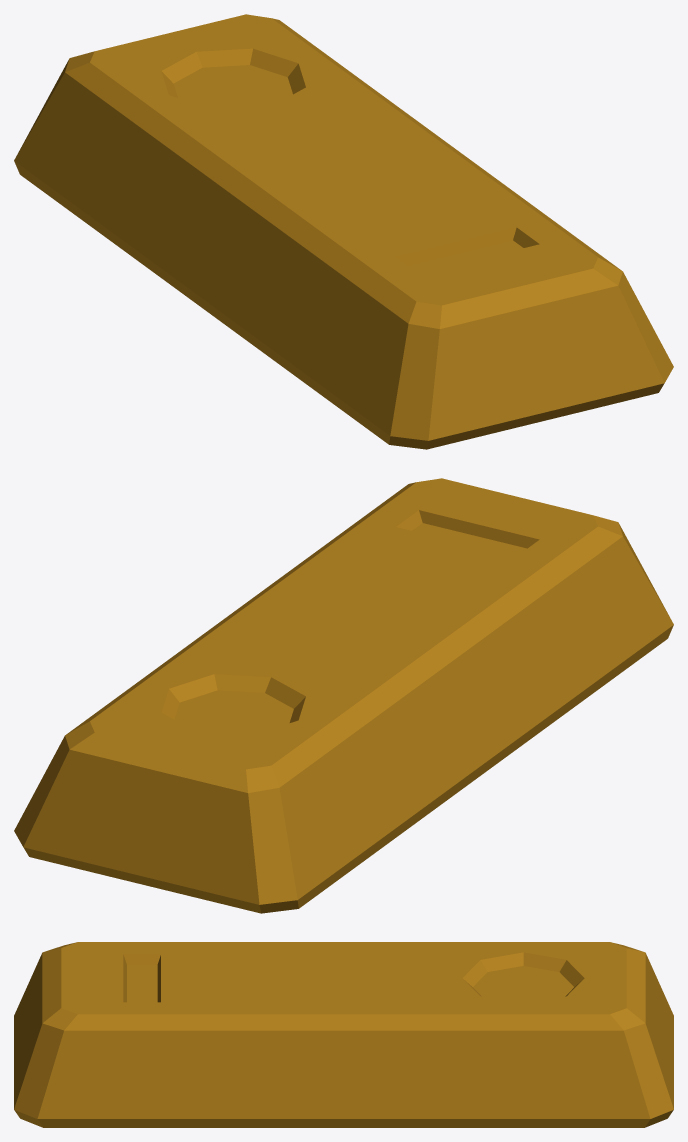
The model's file is Gold_01.fbx.
3 views of the same model, one above another, from view 1: azimuth 30°, elevation 25°; view 2: azimuth 150°, elevation 25°; view 3: azimuth 270°, elevation 25° (orthographic). The views are drawn at different scales.
Parts seen in each view (by area): view 1: SM_Prop_GoldBar_01; view 2: SM_Prop_GoldBar_01; view 3: SM_Prop_GoldBar_01.
Part boxes in pixels (x1,y1,x2,y2): SM_Prop_GoldBar_01: (14, 14, 673, 449); SM_Prop_GoldBar_01: (14, 478, 673, 913); SM_Prop_GoldBar_01: (14, 942, 673, 1127).
Size of the model in its own units: 0.1789 by 0.0698 by 0.4425.
